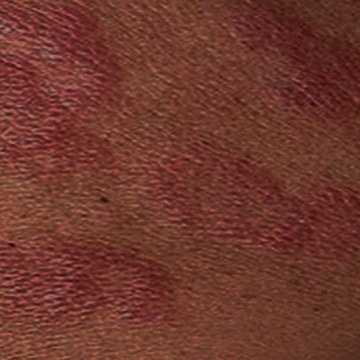Leprosy: (141, 129, 359, 259), (0, 225, 177, 352), (0, 0, 127, 172), (191, 0, 359, 125)
